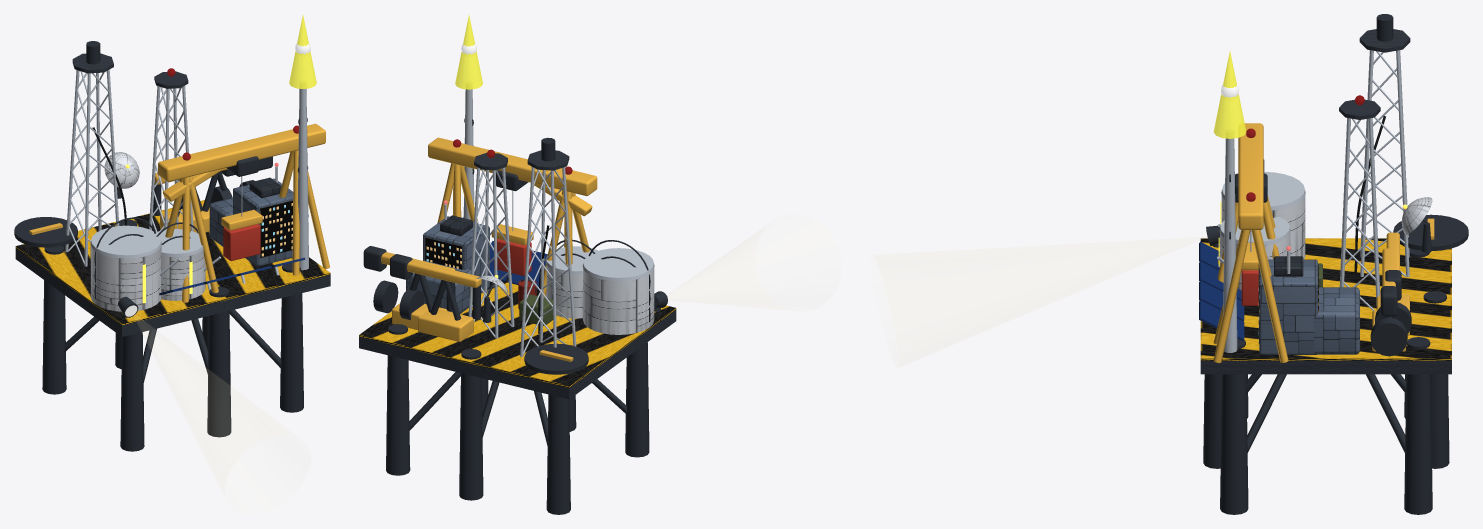
Rendered from platform-T4.glb.
The picture shows the model from 3 angles, left to right: view 1: azimuth 30°, elevation 25°; view 2: azimuth 150°, elevation 25°; view 3: azimuth 270°, elevation 25°; orthographic projection. The views are drawn at different scales.
Parts seen in each view (by area): view 1: object 14, object 13, object 140, object 162, object 11, object 7, object 5, object 1, anim:trolley, object 141, object 135, object 170 (+17 smaller); view 2: object 14, object 13, object 140, object 9, object 3, object 1, object 162, anim:swing (×2), object 5, object 141, anim:trolley, object 169 (+13 smaller); view 3: object 14, object 169, object 3, object 7, object 13, object 167, object 162, object 135, object 9, object 11, anim:flame, object 175 (+12 smaller).
Part boxes in pixels (left/top/right/bottom): object 14: left=15, top=200, right=330, bottom=325; object 13: left=15, top=248, right=330, bottom=336; object 140: left=90, top=245, right=161, bottom=311; object 162: left=158, top=123, right=325, bottom=181; object 11: left=207, top=287, right=231, bottom=437; object 7: left=280, top=263, right=303, bottom=412; object 5: left=120, top=332, right=144, bottom=451; object 1: left=42, top=246, right=66, bottom=394; anim:trolley: left=221, top=156, right=262, bottom=260; object 141: left=90, top=225, right=161, bottom=258; object 135: left=298, top=88, right=308, bottom=270; object 170: left=260, top=200, right=292, bottom=257; object 14: left=359, top=273, right=676, bottom=387; object 13: left=359, top=310, right=676, bottom=399; object 140: left=583, top=268, right=654, bottom=334; object 9: left=459, top=349, right=483, bottom=500; object 3: left=386, top=324, right=410, bottom=475; object 1: left=546, top=394, right=570, bottom=514; object 162: left=428, top=137, right=597, bottom=196; anim:swing (×2): left=363, top=246, right=481, bottom=319; object 5: left=625, top=342, right=649, bottom=457; object 141: left=582, top=248, right=654, bottom=281; anim:trolley: left=491, top=170, right=533, bottom=275; object 169: left=423, top=216, right=489, bottom=293; object 14: left=1200, top=238, right=1451, bottom=360; object 169: left=1259, top=259, right=1317, bottom=354; object 3: left=1404, top=337, right=1432, bottom=514; object 7: left=1220, top=339, right=1248, bottom=514; object 13: left=1200, top=360, right=1451, bottom=374; object 167: left=1313, top=287, right=1359, bottom=354; object 162: left=1238, top=123, right=1263, bottom=229; object 135: left=1223, top=138, right=1237, bottom=352; object 9: left=1423, top=291, right=1449, bottom=468; object 11: left=1203, top=374, right=1221, bottom=468; anim:flame: left=1213, top=51, right=1246, bottom=138; object 175: left=1393, top=214, right=1468, bottom=250.
Bounding box in the file's own units: 4.22 × 6.11 × 7.15.
24 materials, 6 textured.
